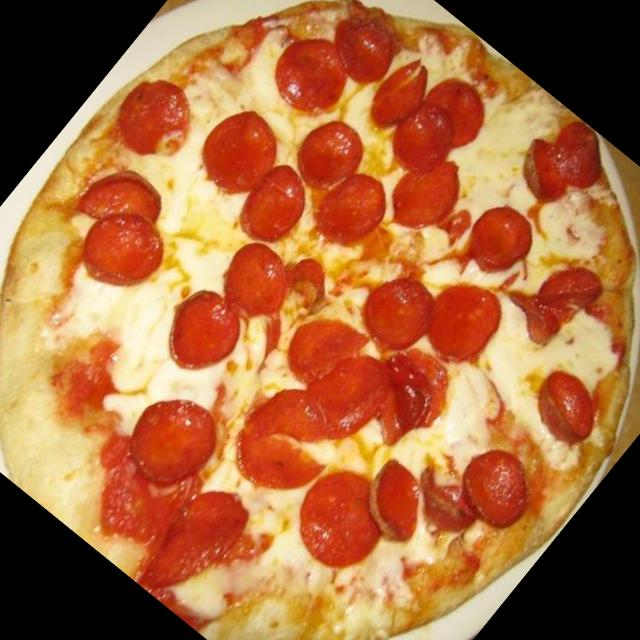pepperoni: (221, 370, 357, 509), (134, 465, 266, 605), (278, 452, 412, 588), (196, 226, 319, 352), (119, 377, 238, 498), (180, 93, 298, 214), (66, 196, 185, 314), (100, 62, 216, 178), (354, 334, 466, 452), (148, 278, 260, 392), (257, 19, 368, 132), (276, 104, 384, 214), (296, 342, 399, 449), (346, 450, 451, 554), (503, 246, 604, 354), (411, 270, 514, 374), (447, 434, 548, 536), (78, 148, 180, 248), (351, 255, 449, 356), (380, 149, 474, 248), (358, 42, 450, 140), (275, 297, 368, 393), (230, 154, 322, 250), (314, 0, 409, 91), (497, 122, 590, 214), (524, 358, 616, 451), (310, 161, 400, 256), (410, 65, 502, 157), (459, 191, 549, 282), (381, 94, 466, 181), (538, 117, 618, 196), (274, 246, 344, 318)
pizza: (0, 0, 636, 640)
